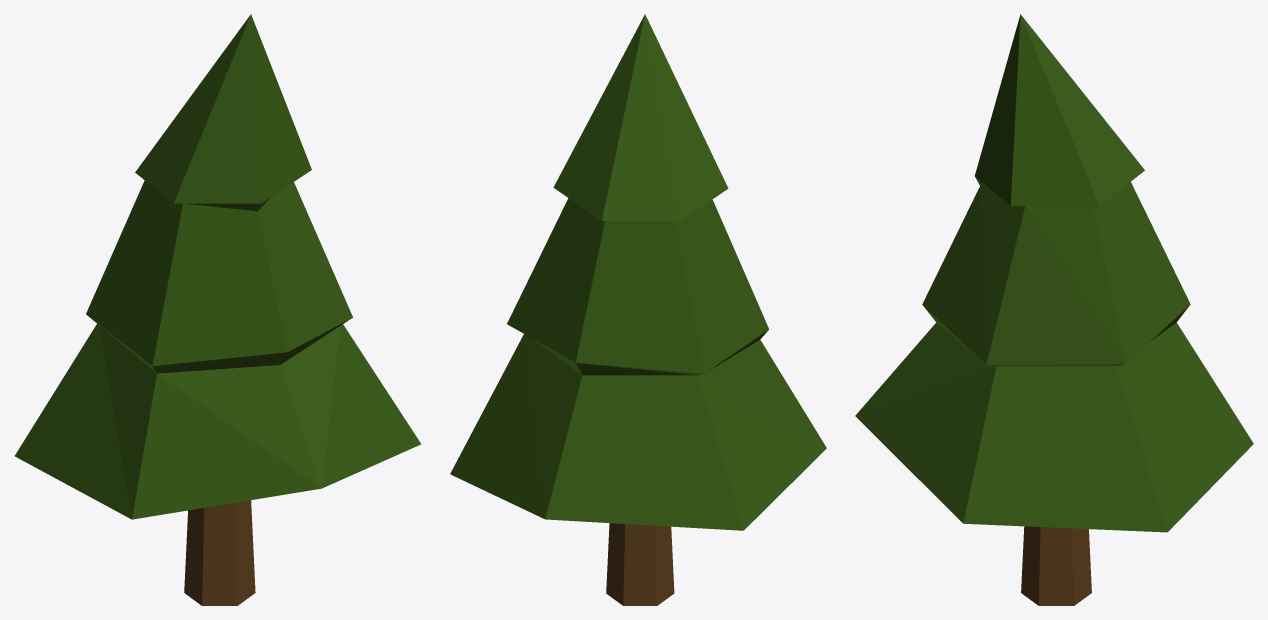
The model's file is SM_Tree_01.fbx.
The picture shows the model from 3 angles, left to right: view 1: azimuth 30°, elevation 25°; view 2: azimuth 150°, elevation 25°; view 3: azimuth 270°, elevation 25°; orthographic projection. The views are drawn at different scales.
Visible parts, largest first — view 1: Tree_01; view 2: Tree_01; view 3: Tree_01.
Part boxes in pixels (x1,y1,x2,y2): Tree_01: (15,14,420,605); Tree_01: (450,14,826,605); Tree_01: (855,14,1253,605).
Size of the model in its own units: 4.48 by 8.09 by 5.
